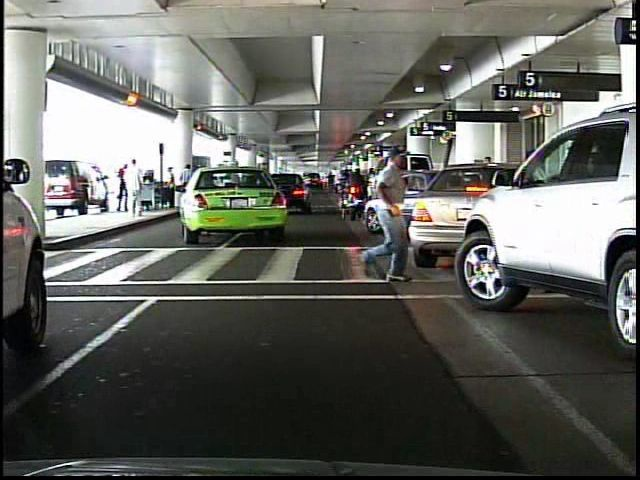person: (351, 140, 422, 288)
